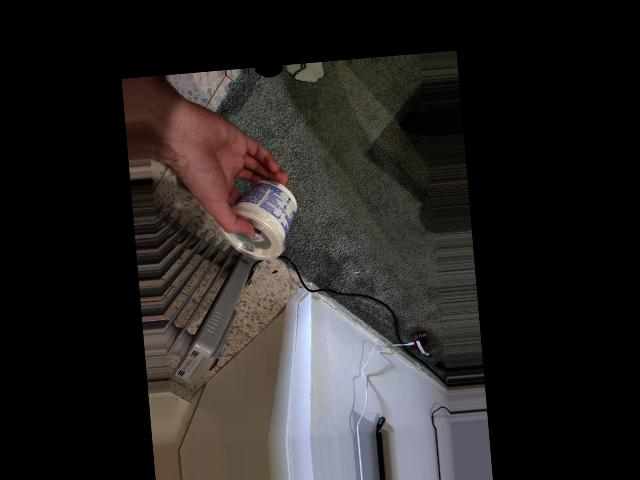cotage: (221, 172, 301, 260)
